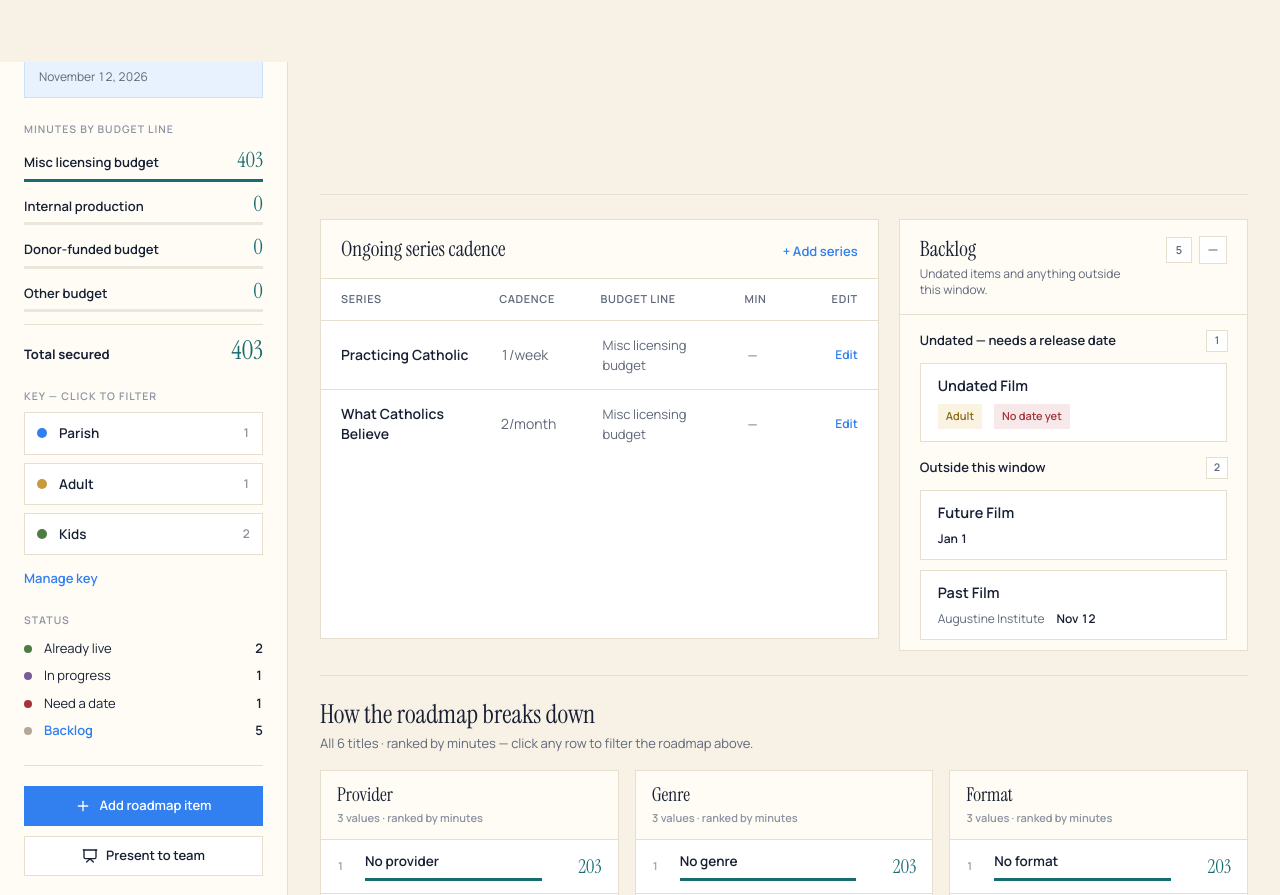
Test: RoadmapDashboard › opens present mode from the rail and shows the window as dark month columns
(page scrolled)
Click the button "Present to team": (144, 856) x1=24 y1=836 x2=263 y2=876
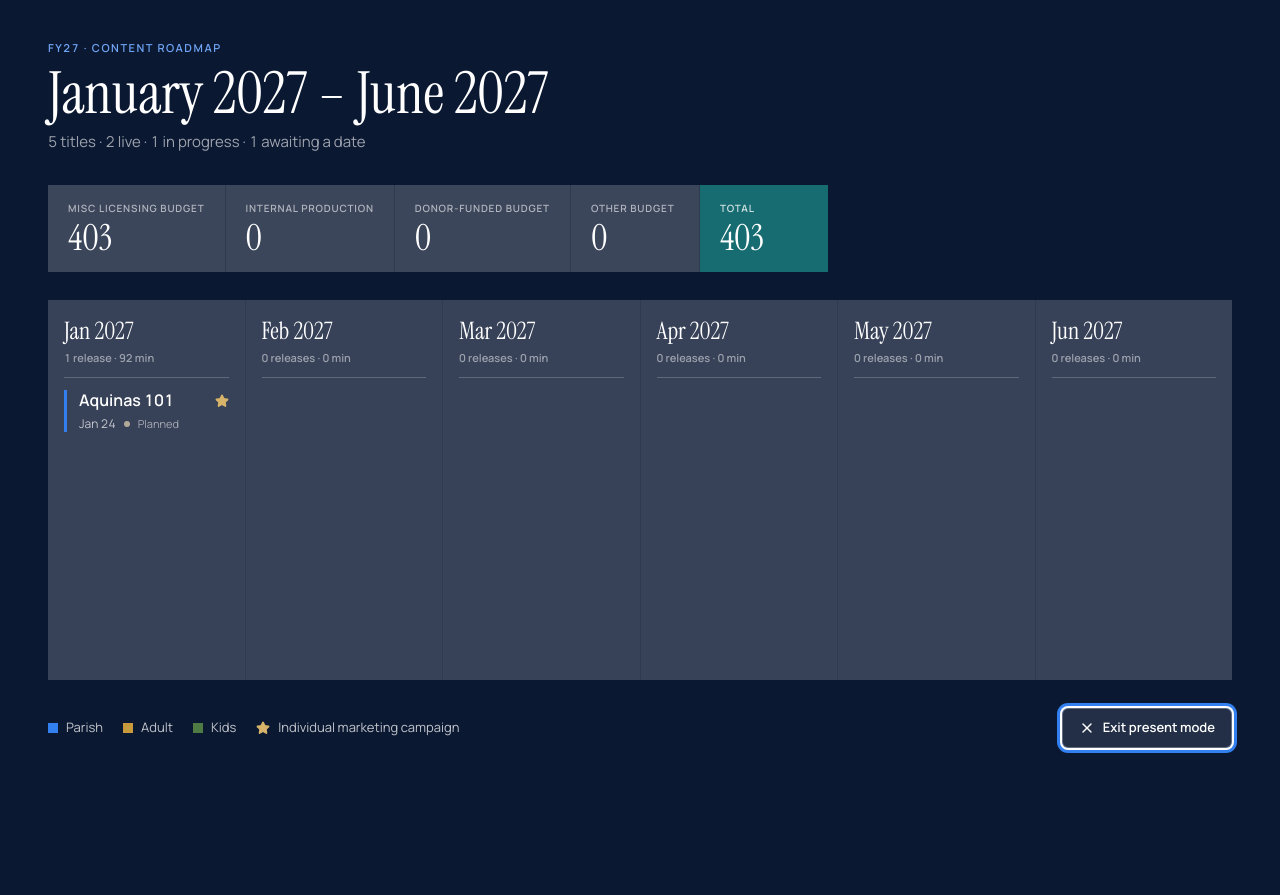
Check: the heading "January 2027 – June 2027" is shown, box x1=48 y1=64 x2=548 y2=122
Check: the text "FY27 · Content roadmap" is shown, box x1=48 y1=40 x2=222 y2=55
Check: the text "5 titles · 2 live · 1 in progress · 1 awaiting a date" is shown, box x1=48 y1=130 x2=366 y2=152
